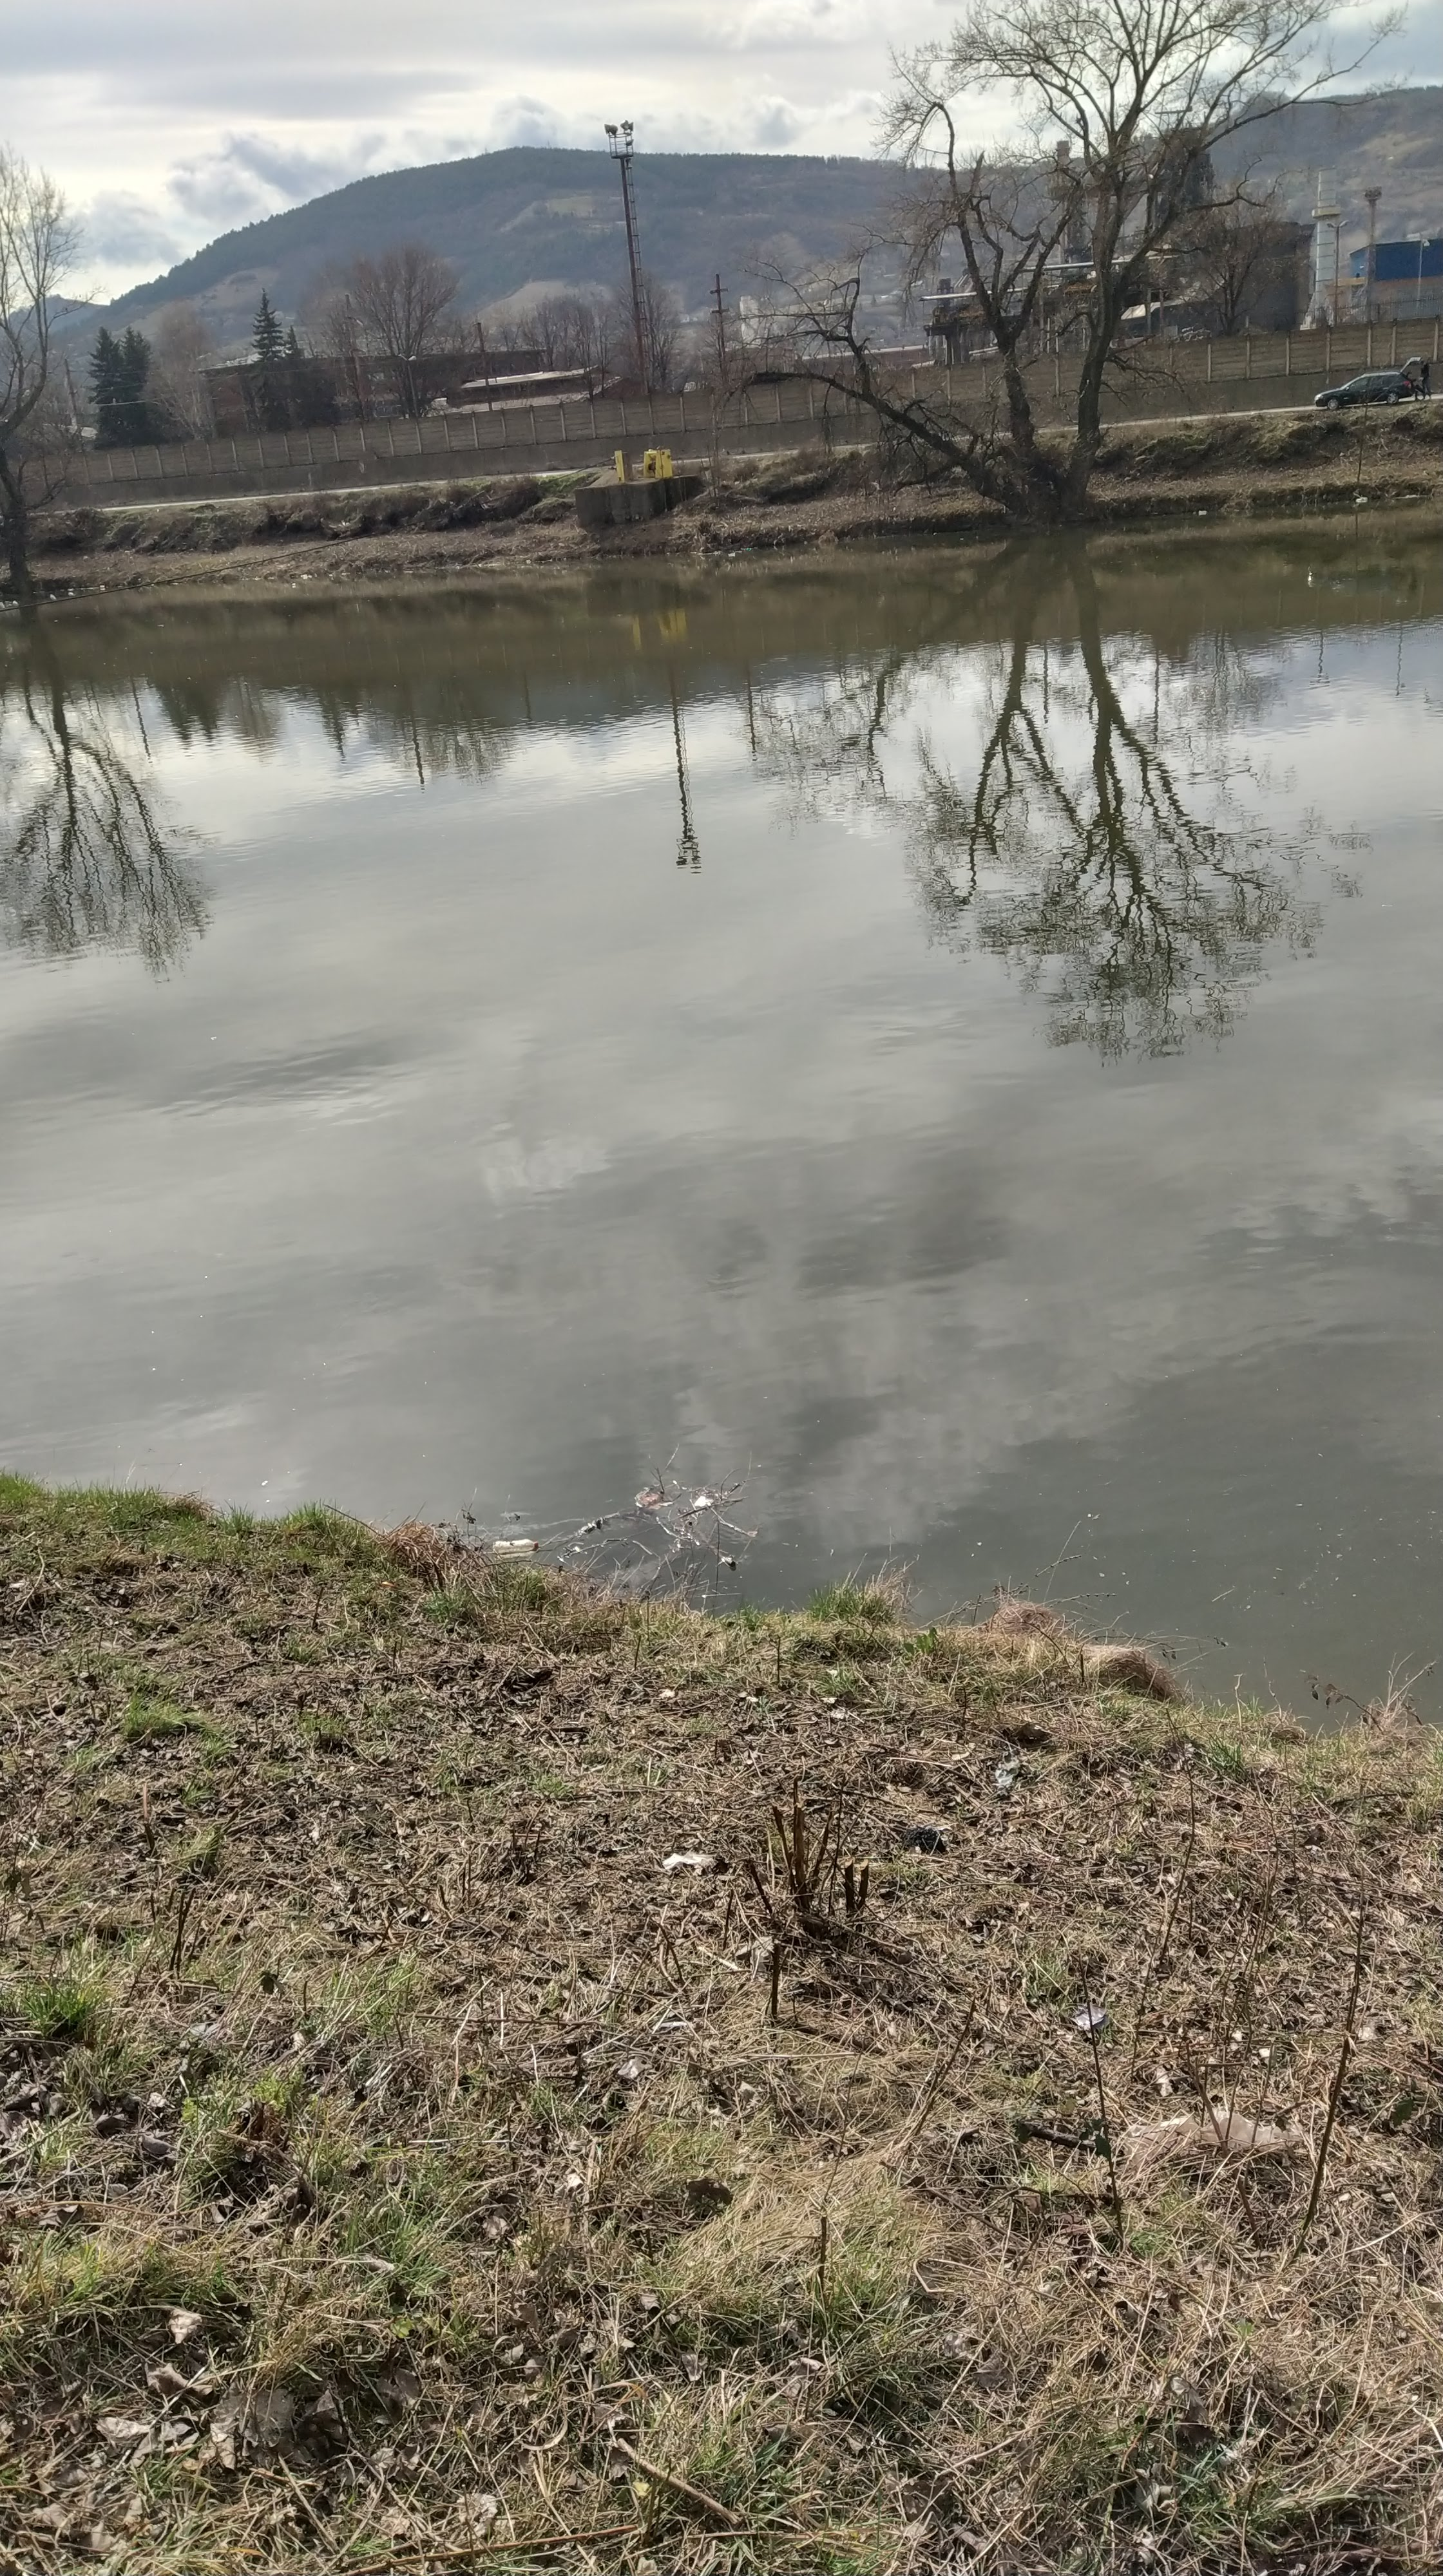Plastic Bottle: (492, 1539, 538, 1553), (1356, 495, 1367, 502), (1199, 510, 1208, 513), (745, 547, 751, 550), (99, 586, 104, 587)
